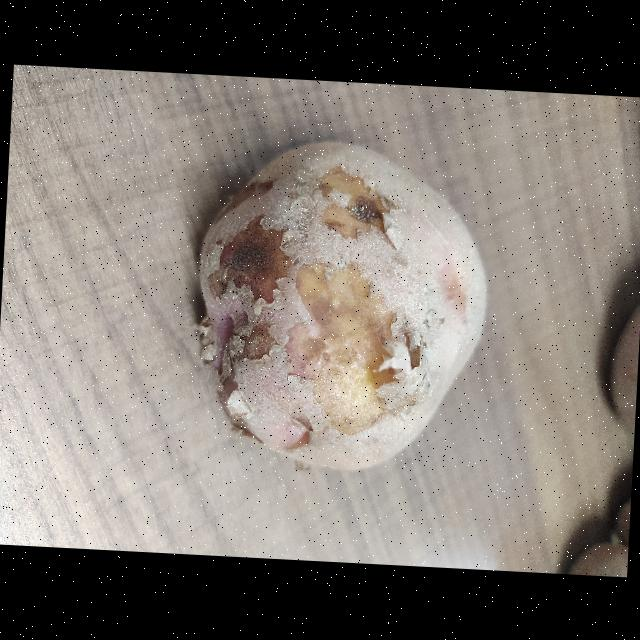Damaged potato: (232, 96, 610, 427)
